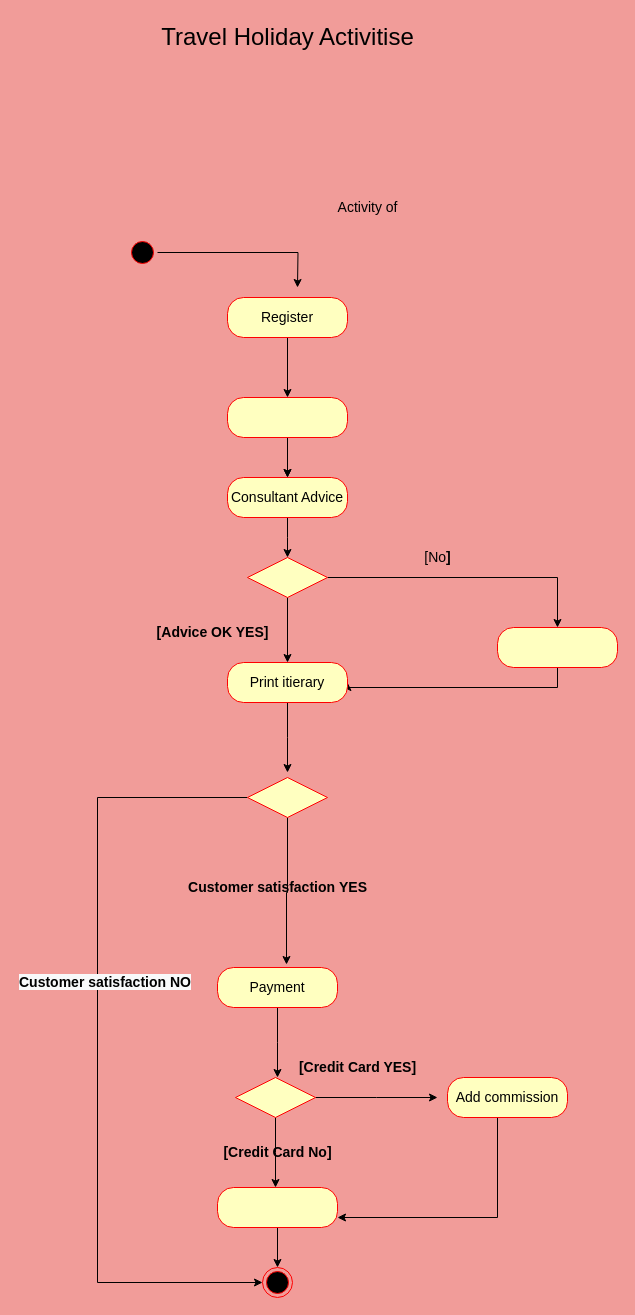
The diagram is 635 pixels wide and 1315 high, and some of its shapes have lost their labels. The centre of each missing label's shape, as x and y in pixels:
Alternative Option: (557,647)
Customer Requetment: (287,417)
Take Recipt: (277,1207)
